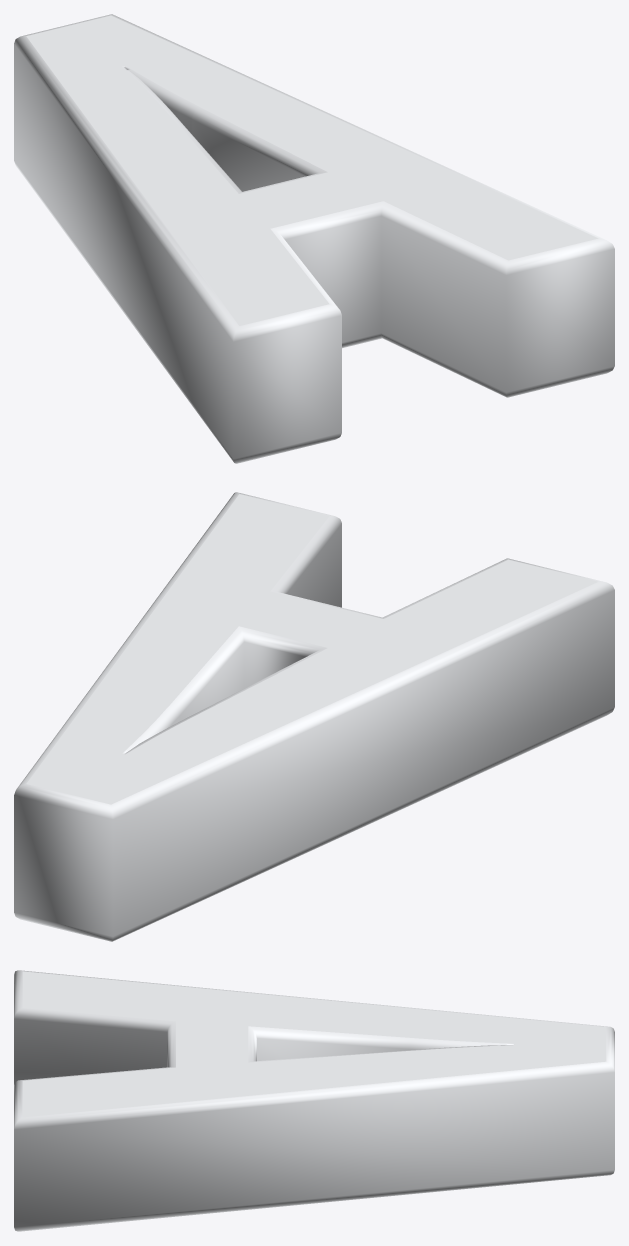
File: goal_clear_letter_07.obj
The picture shows the model from 3 angles, top to bottom: view 1: azimuth 30°, elevation 25°; view 2: azimuth 150°, elevation 25°; view 3: azimuth 270°, elevation 25°; orthographic projection. The views are drawn at different scales.
Visible parts, largest first — view 1: goal_clear_letter_07; view 2: goal_clear_letter_07; view 3: goal_clear_letter_07.
Part boxes in pixels (<box>): goal_clear_letter_07: <box>14,14,614,463</box>; goal_clear_letter_07: <box>14,492,614,941</box>; goal_clear_letter_07: <box>14,970,614,1231</box>.
Bounding box in the file's own units: 0.8065 × 0.2741 × 1.32.
Materials: 1 (1 with a texture image).
